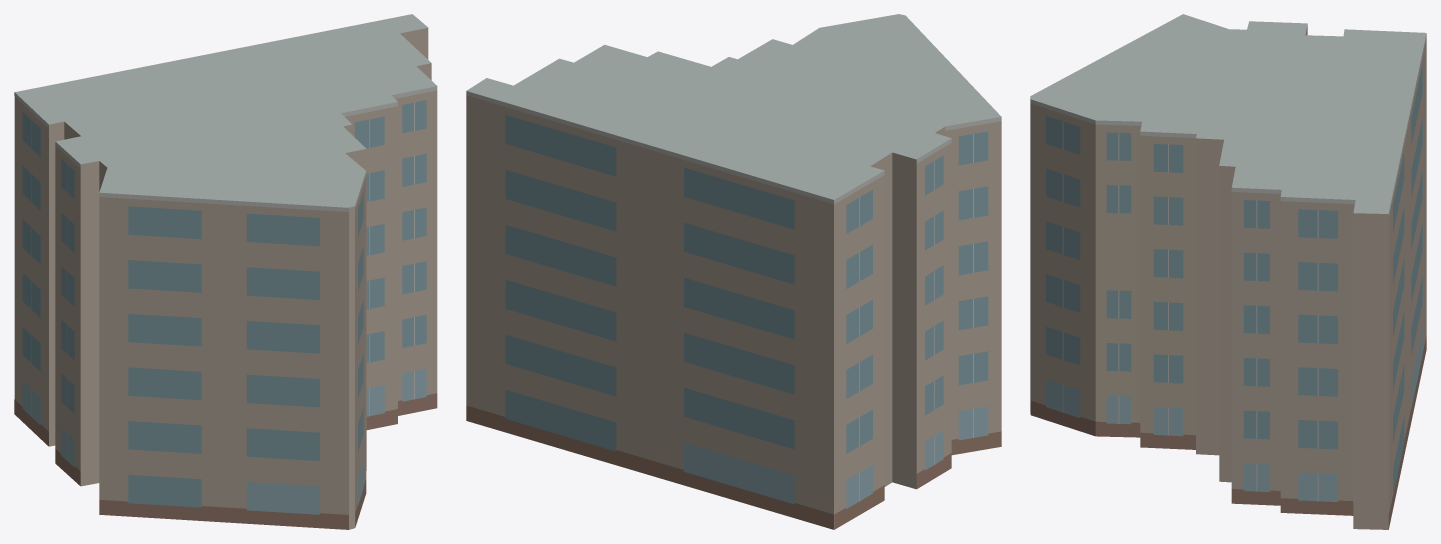
File: survey-upis-32742991.glb
3 views of the same model, side by side, from view 1: azimuth 30°, elevation 25°; view 2: azimuth 150°, elevation 25°; view 3: azimuth 270°, elevation 25° (orthographic). The views are drawn at different scales.
Parts seen in each view (by area): view 1: survey-upis-32742991.tmp; view 2: survey-upis-32742991.tmp; view 3: survey-upis-32742991.tmp.
Boxes of the visible parts, bbox=[...] form: survey-upis-32742991.tmp: bbox=[14, 14, 437, 529]; survey-upis-32742991.tmp: bbox=[466, 14, 1001, 529]; survey-upis-32742991.tmp: bbox=[1030, 14, 1426, 529].
Size of the model in its own units: 24.99 by 18.4 by 20.94.
